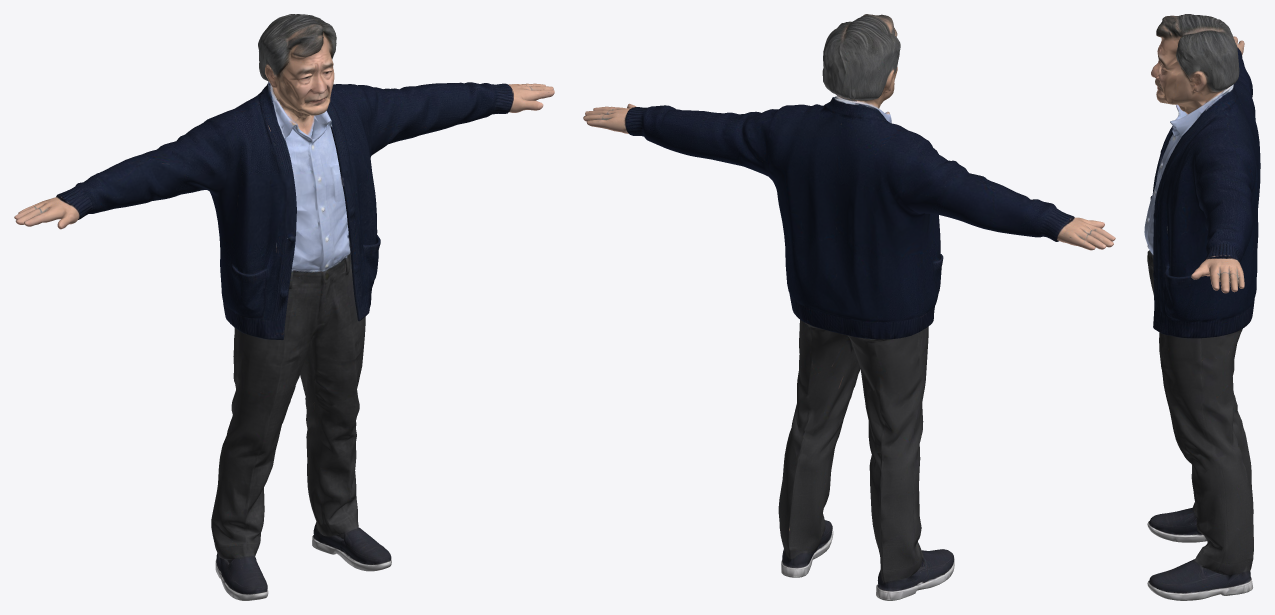
File: man.glb
3 views of the same model, side by side, from view 1: azimuth 30°, elevation 25°; view 2: azimuth 150°, elevation 25°; view 3: azimuth 270°, elevation 25° (orthographic).
Size of the model in its own units: 1.9 by 1.89 by 0.3615.
1 material, 1 textured.
